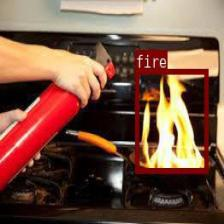fire: (134, 68, 208, 173)
